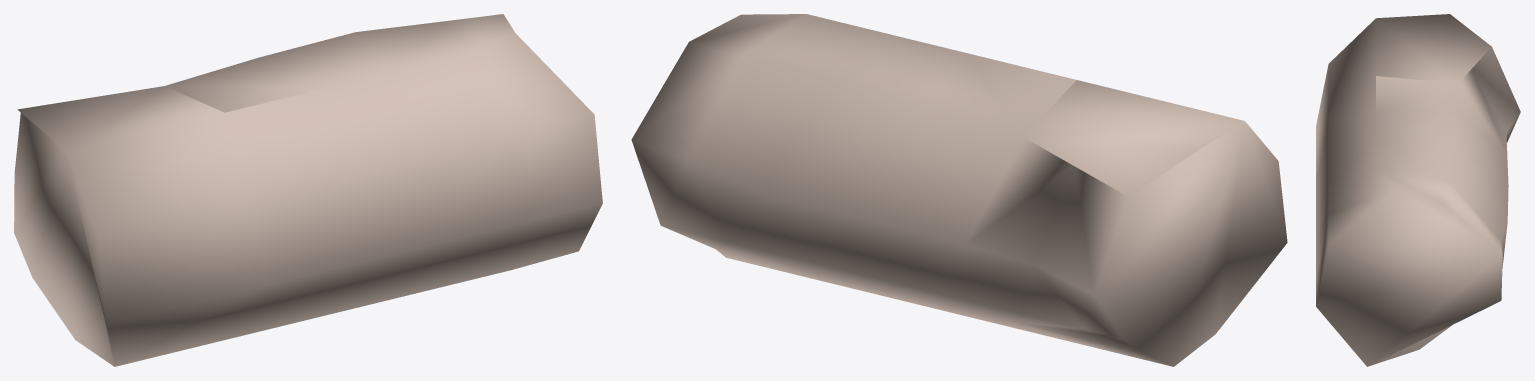
The model's file is RThumb0thPhalange.dae.
The picture shows the model from 3 angles, left to right: view 1: azimuth 30°, elevation 25°; view 2: azimuth 150°, elevation 25°; view 3: azimuth 270°, elevation 25°; orthographic projection. The views are drawn at different scales.
Parts seen in each view (by area): view 1: ShapeIndexedFaceSet; view 2: ShapeIndexedFaceSet; view 3: ShapeIndexedFaceSet.
Boxes of the visible parts, box(x1,y1,x2,y2) form: ShapeIndexedFaceSet: box(14, 14, 602, 366); ShapeIndexedFaceSet: box(631, 14, 1287, 366); ShapeIndexedFaceSet: box(1316, 14, 1520, 366).
Size of the model in its own units: 0.0515 by 0.0241 by 0.0219.
